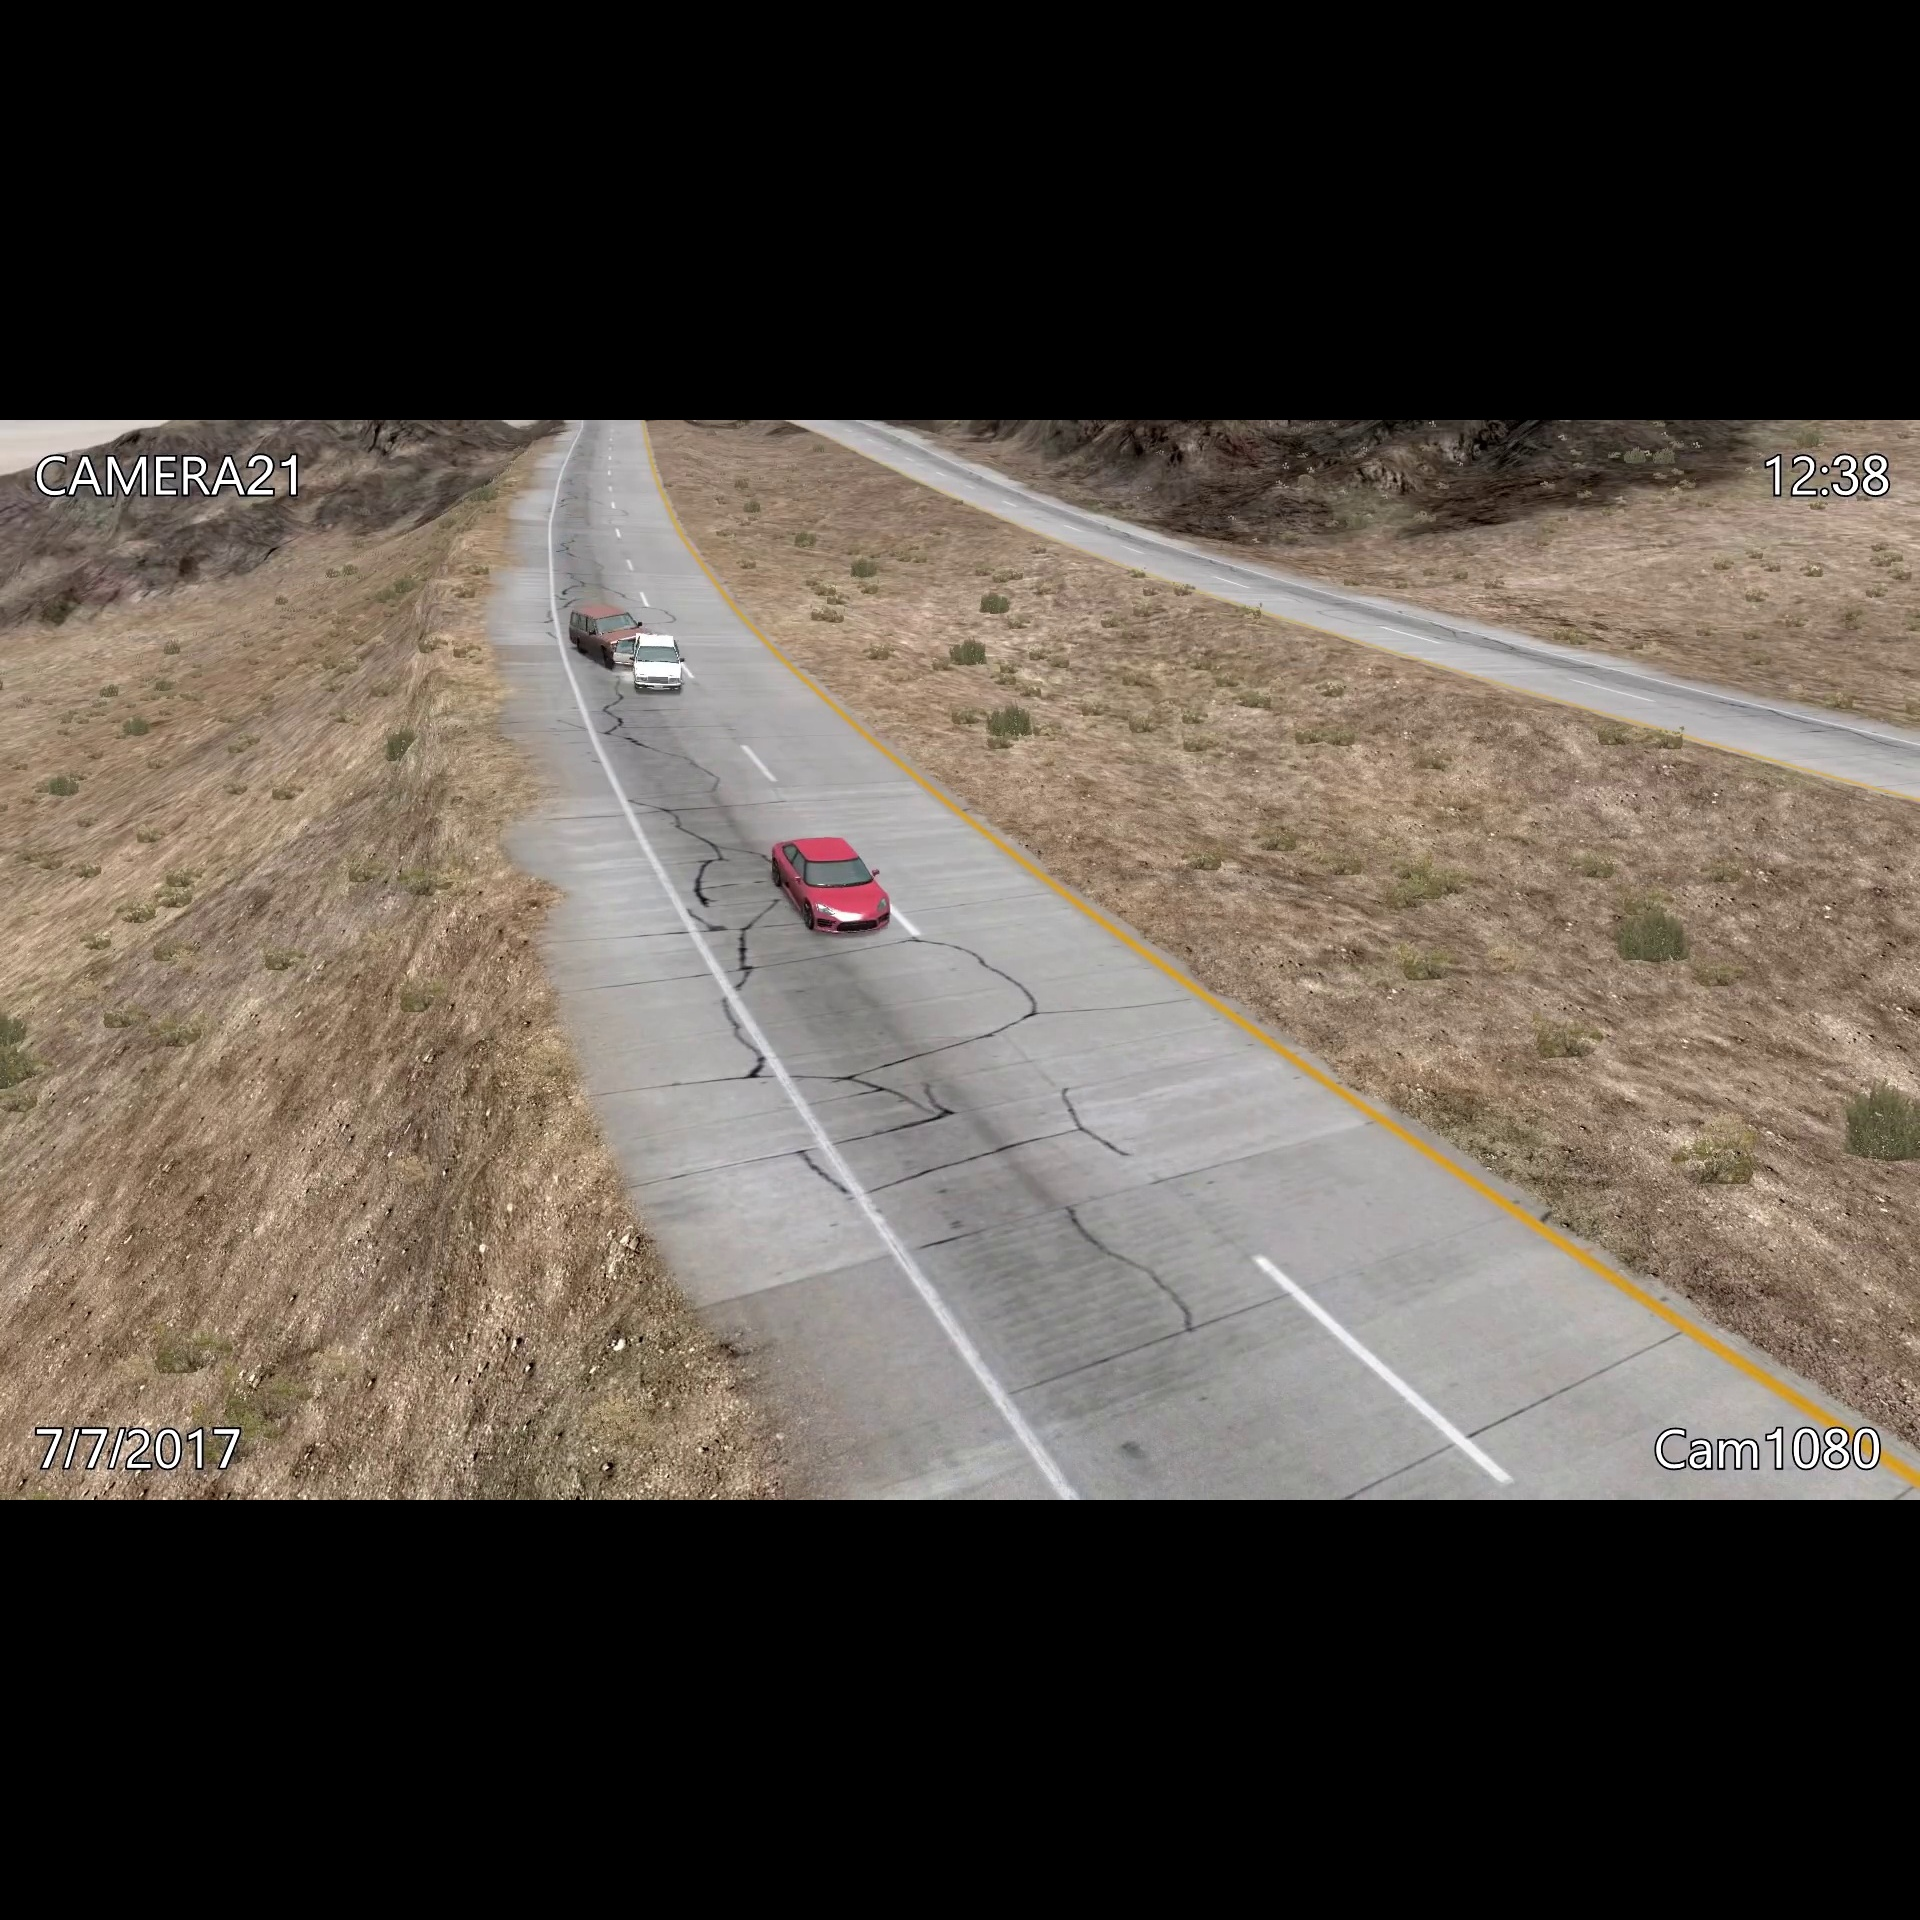vehicle: (765, 830, 895, 948), (564, 601, 647, 665), (629, 628, 693, 695)
